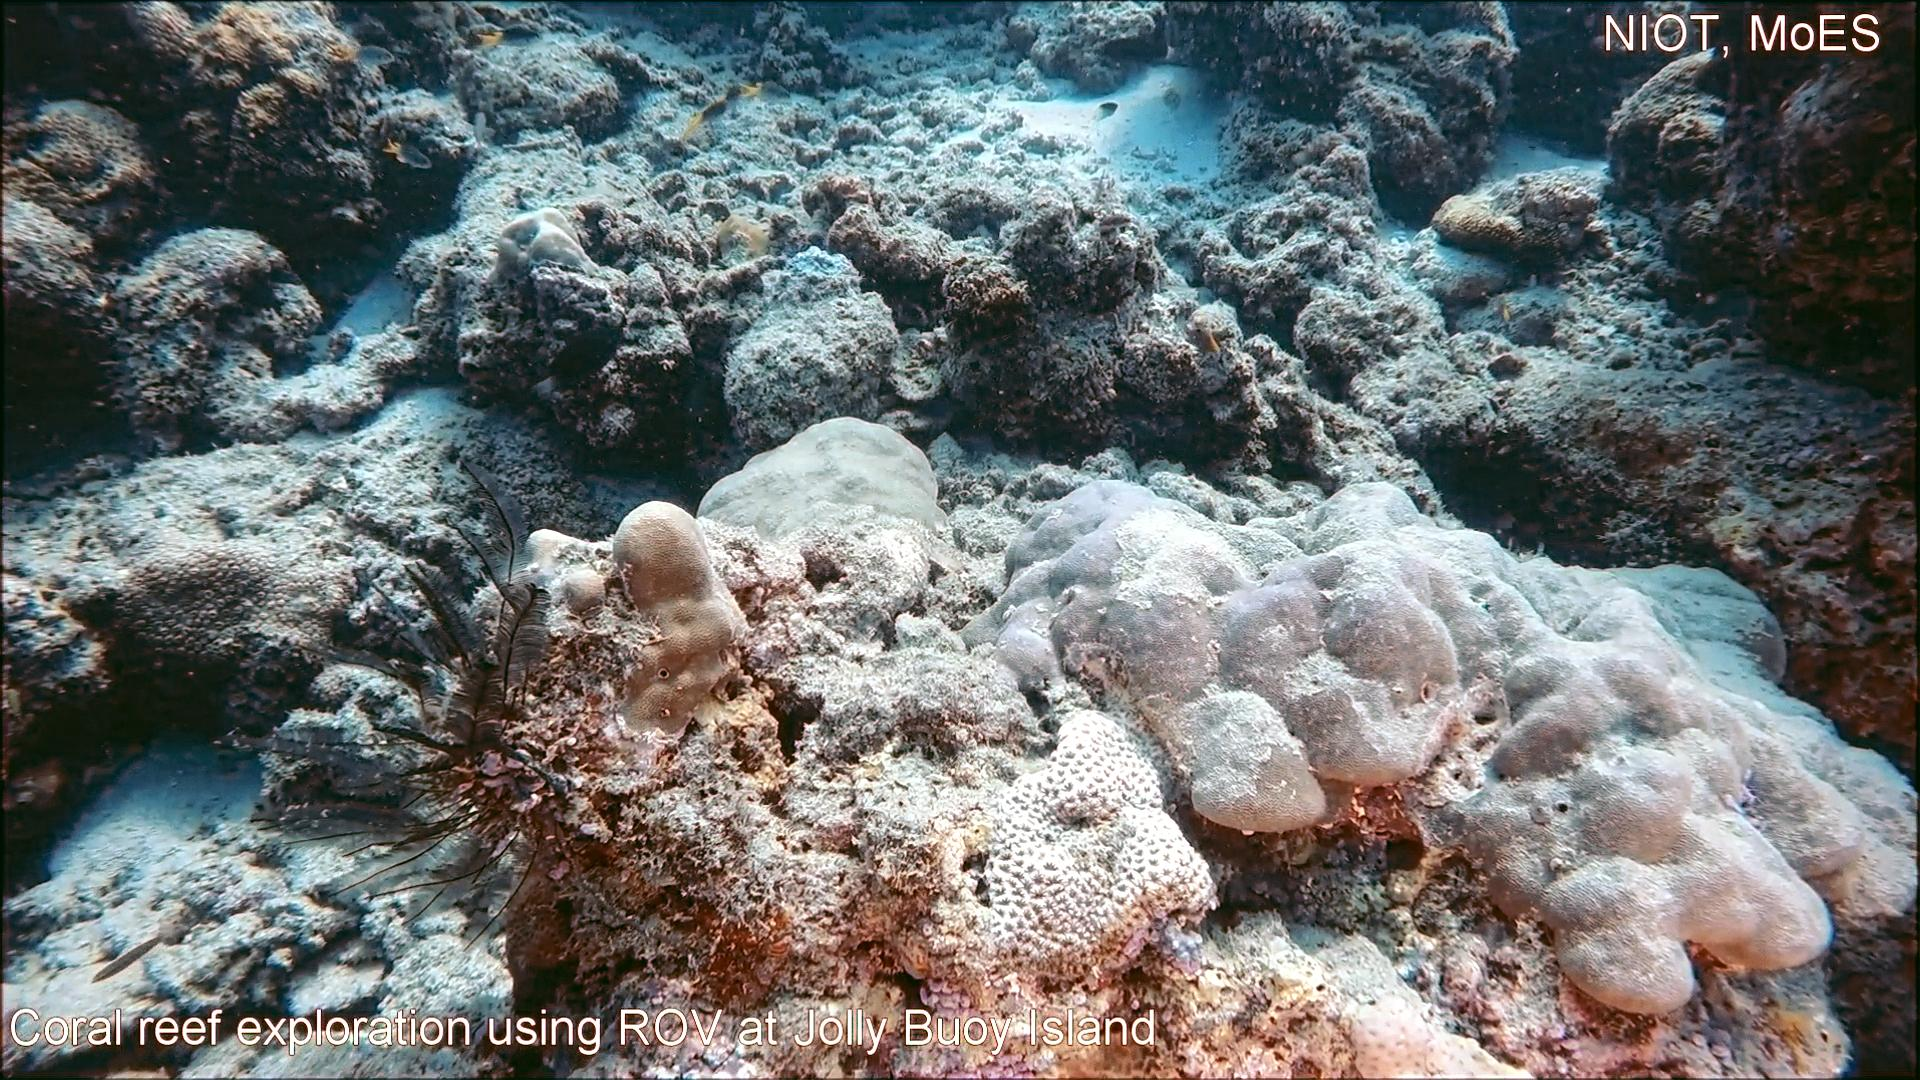Feather star-Crinoid star: (204, 448, 582, 969)
Goniastrea-Goniastrea pectinata: (973, 703, 1224, 998)
Porites-Porites pukoensis: (1320, 468, 1920, 1028)
Turbinaria-Turbinaria stellulata: (94, 532, 360, 692)
